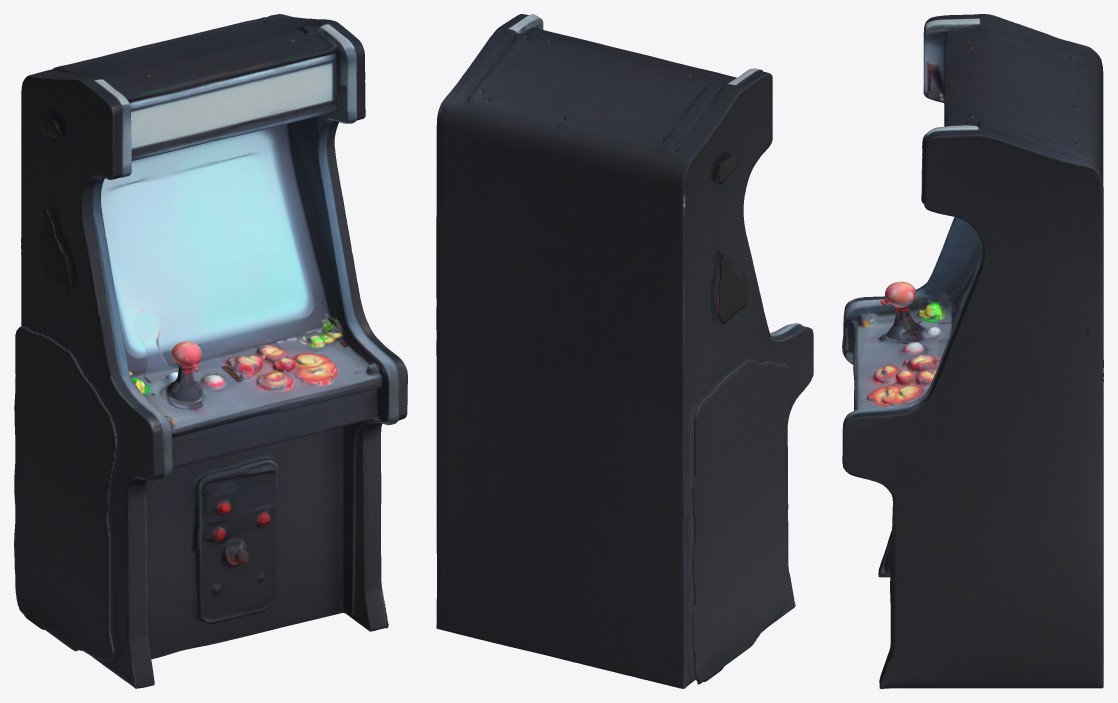
The model's file is Arcade.glb.
3 views of the same model, side by side, from view 1: azimuth 30°, elevation 25°; view 2: azimuth 150°, elevation 25°; view 3: azimuth 270°, elevation 25° (orthographic). The views are drawn at different scales.
Bounding box in the file's own units: 0.9671 × 1.99 × 0.852.
1 material, 1 textured.
